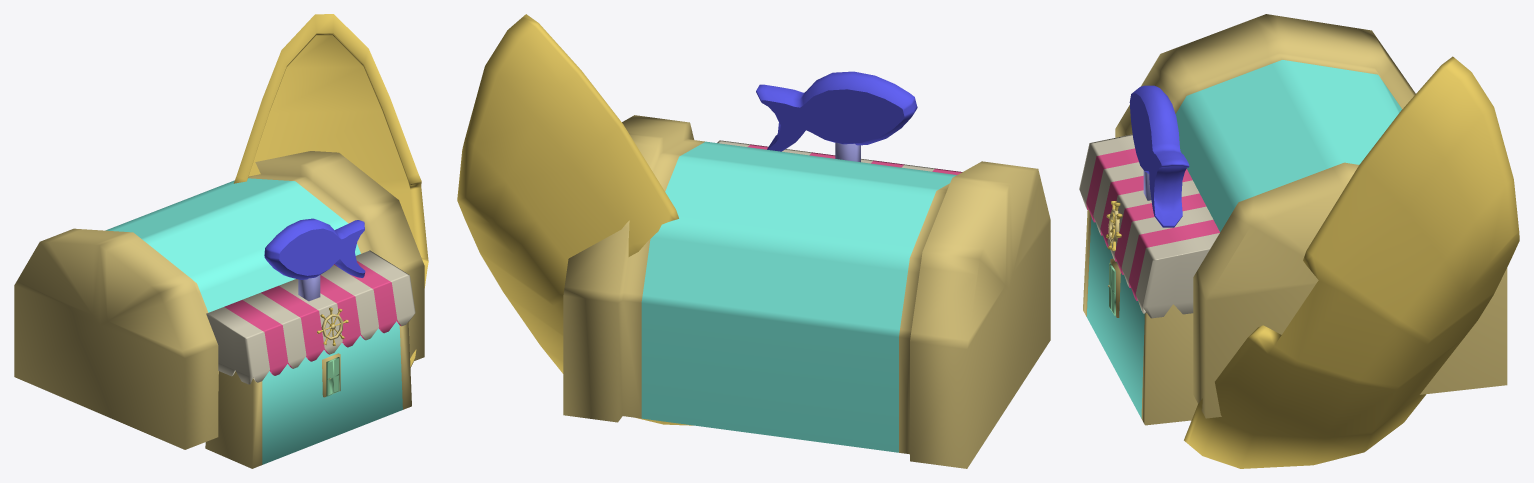
Rendered from The_Big_Fish.fbx.
The picture shows the model from 3 angles, left to right: view 1: azimuth 30°, elevation 25°; view 2: azimuth 150°, elevation 25°; view 3: azimuth 270°, elevation 25°; orthographic projection. The views are drawn at different scales.
Parts seen in each view (by area): view 1: The_Big_fish; view 2: The_Big_fish; view 3: The_Big_fish.
Boxes of the visible parts, bbox=[...] form: The_Big_fish: bbox=[14, 14, 428, 468]; The_Big_fish: bbox=[457, 14, 1050, 468]; The_Big_fish: bbox=[1079, 14, 1519, 468].
Bounding box in the file's own units: 2289 × 1930 × 1823.
1 material, 1 textured.
